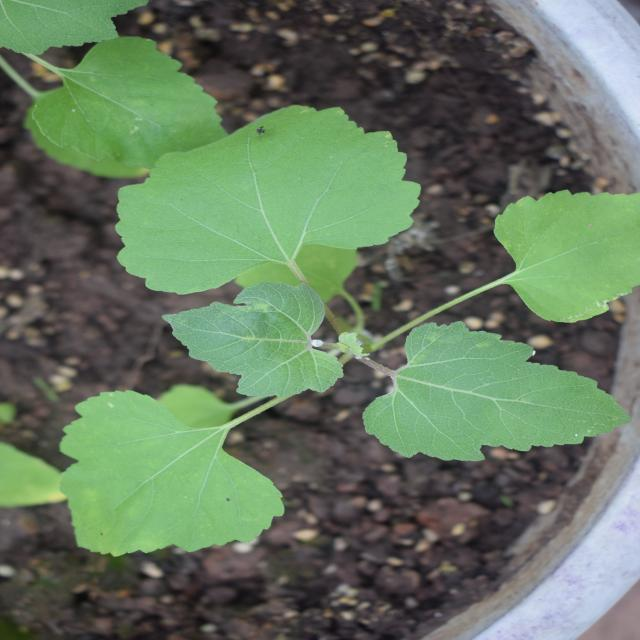cocklebur: (70, 33, 533, 594)
